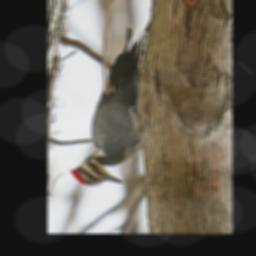Woodpecker: (69, 19, 152, 187)
